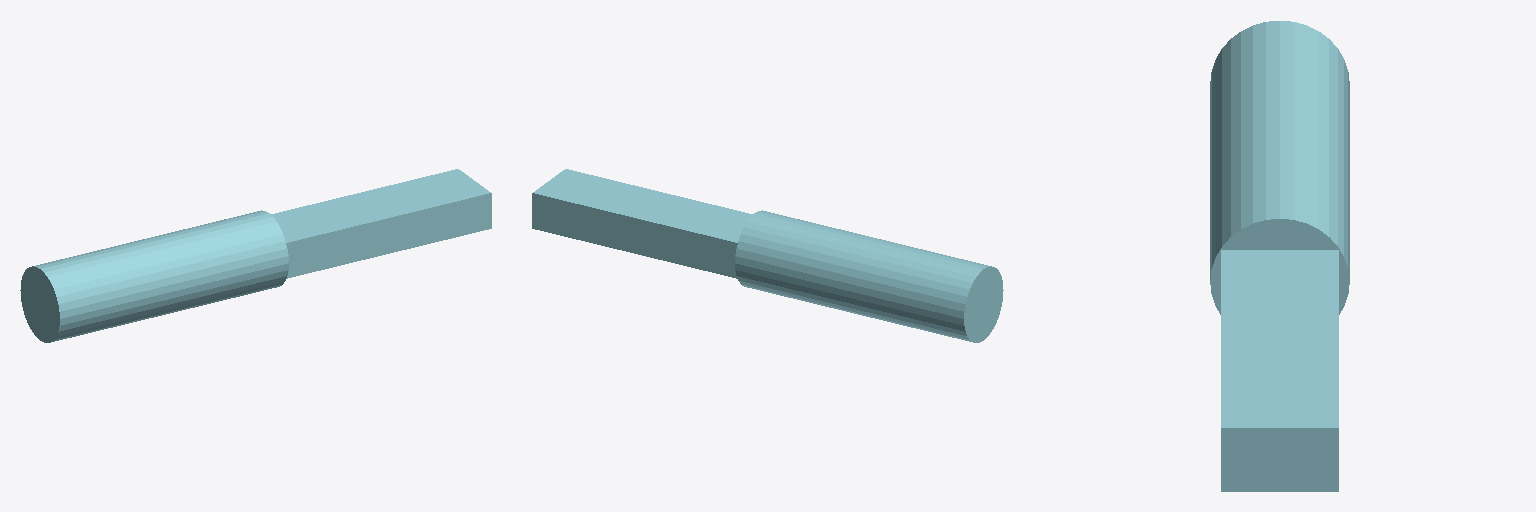
robot.urdf — cylinder_spatula_v6010:
<?xml version="1.0"?>
<robot name="cylinder_spatula_v6010">

  <link name="cylinder_spatula_v6010">
    <!-- Handle -->
    <visual>
      <origin xyz="0 0 0" rpy="0 1.5707963267948966 0"/>
      <geometry>
        <cylinder length="0.1654102409482357" radius="0.024622688958819618"/>
      </geometry>
      <material name="material">
        <color rgba="0.639 0.847 0.882 1.0"/>
      </material>
    </visual>
    <collision>
      <origin xyz="0 0 0" rpy="0 1.5707963267948966 0"/>
      <geometry>
        <cylinder length="0.1654102409482357" radius="0.024622688958819618"/>
      </geometry>
    </collision>

    <!-- Head -->
    <visual>
      <origin xyz="0.15693402454569907 0 0" rpy="0 0 0"/>
      <geometry>
        <box size="0.14845780814316245 0.04152912981951621 0.024675069948758323"/>
      </geometry>
      <material name="material">
        <color rgba="0.639 0.847 0.882 1.0"/>
      </material>
    </visual>
    <collision>
      <origin xyz="0.15693402454569907 0 0" rpy="0 0 0"/>
      <geometry>
        <box size="0.14845780814316245 0.04152912981951621 0.024675069948758323"/>
      </geometry>
    </collision>

    <inertial>
      <density value="400.0"/>
    </inertial>
  </link>

</robot>

--- Facts derived from the render (not from the file) ---
3 views of the same robot in one strip: view 1: azimuth 30°, elevation 25°; view 2: azimuth 150°, elevation 25°; view 3: azimuth 270°, elevation 25° (orthographic).
Model cylinder_spatula_v6010 with 1 links and 0 joints (none), rooted at cylinder_spatula_v6010, posed every joint at zero.
Visible links, largest first — view 1: cylinder_spatula_v6010; view 2: cylinder_spatula_v6010; view 3: cylinder_spatula_v6010.
Boxes of the visible links, x1,y1,x2,y2 form: cylinder_spatula_v6010: (20, 169, 491, 342); cylinder_spatula_v6010: (532, 169, 1003, 342); cylinder_spatula_v6010: (1210, 21, 1349, 491).
Size in the robot's own frame: 0.3139 by 0.0492 by 0.0492 metres.
Geometry: primitives only (box / cylinder / sphere), no mesh files.
